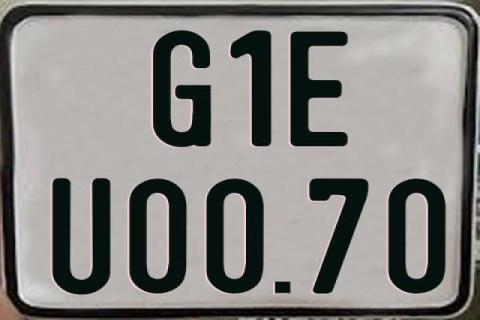0: (306, 178, 370, 298), (204, 178, 268, 294), (386, 178, 446, 298), (128, 177, 190, 292), (230, 29, 272, 145)
E: (288, 29, 349, 148)
G: (150, 31, 208, 147)
U: (49, 176, 110, 294)
